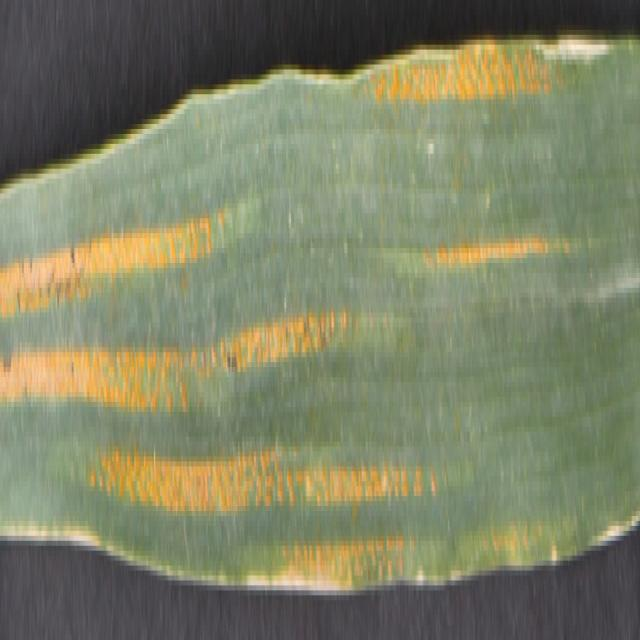leaf rust: (1, 174, 425, 576), (433, 194, 572, 328), (374, 40, 564, 124)
